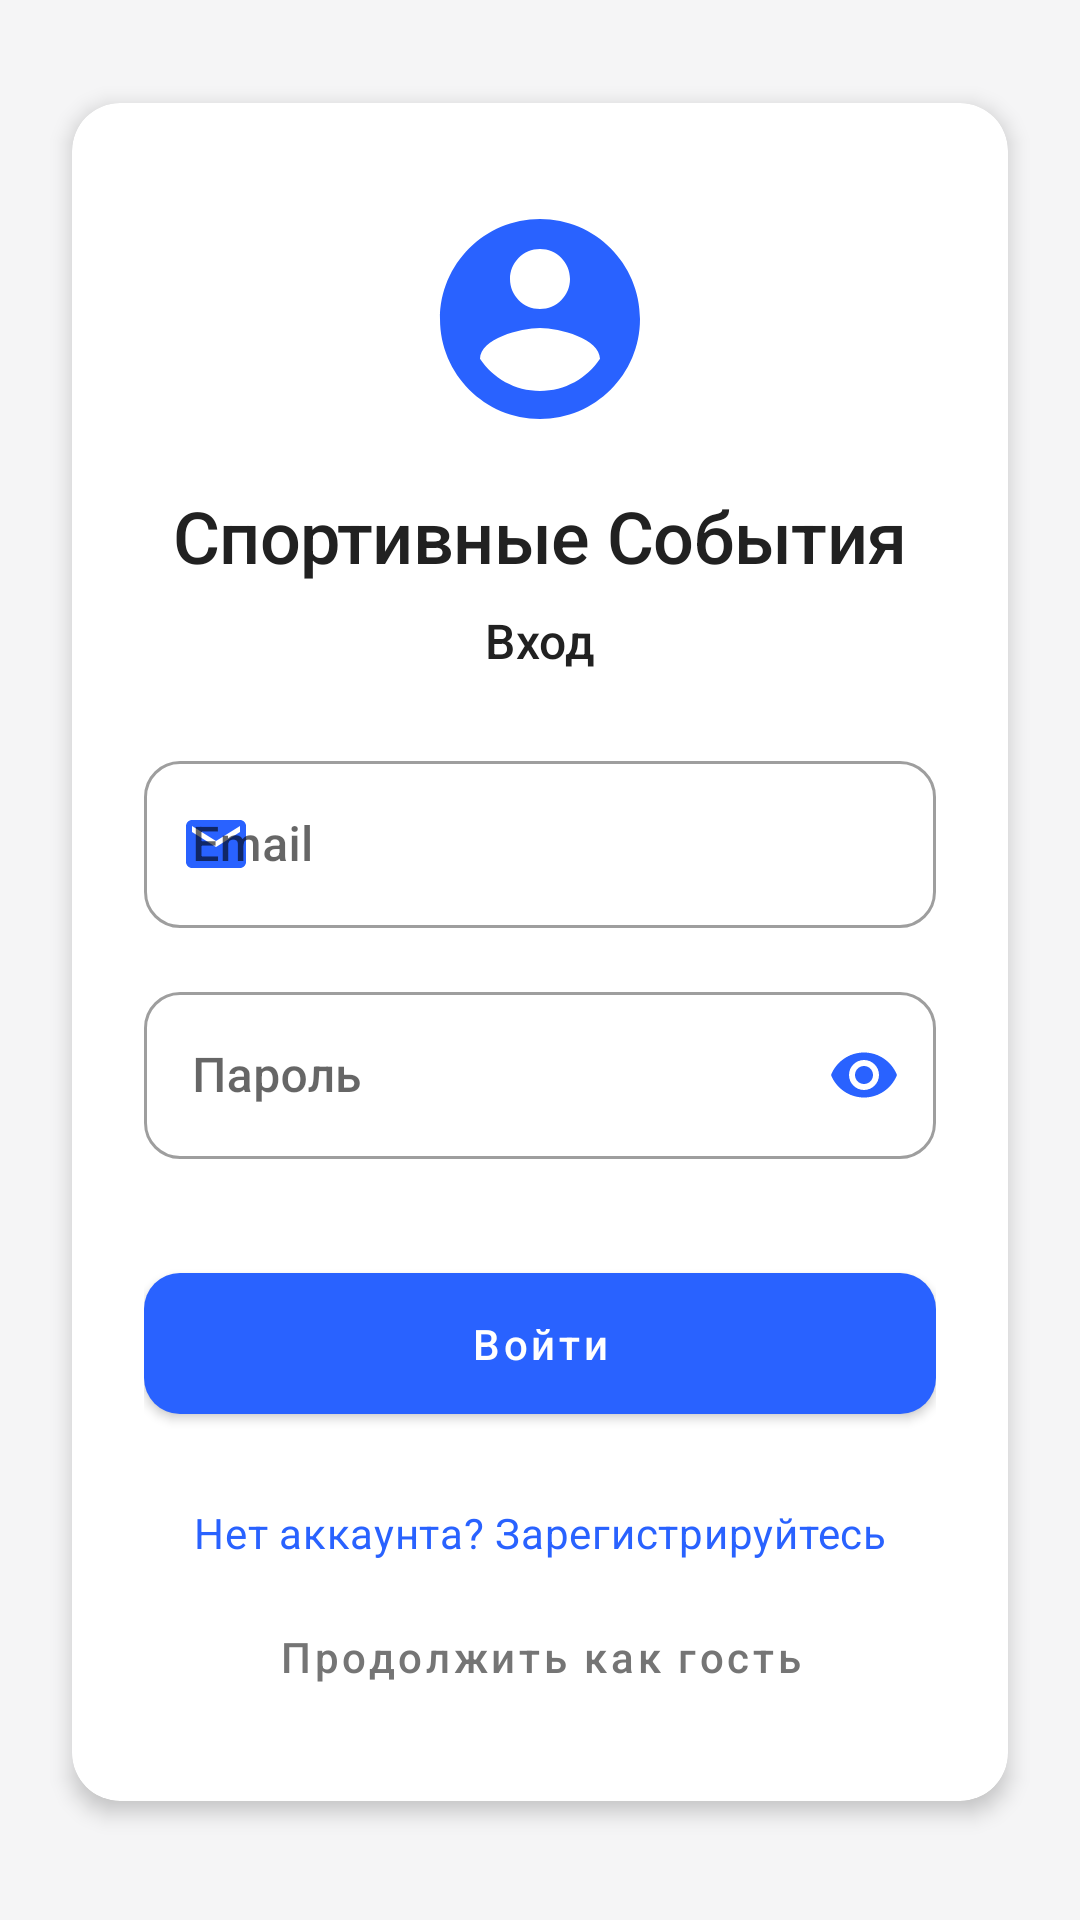

Icons on this 1080x1920 Android screen, each with its box as bbox=(x1, y1, x2, y2):
account circle: bbox=(440, 219, 640, 419)
